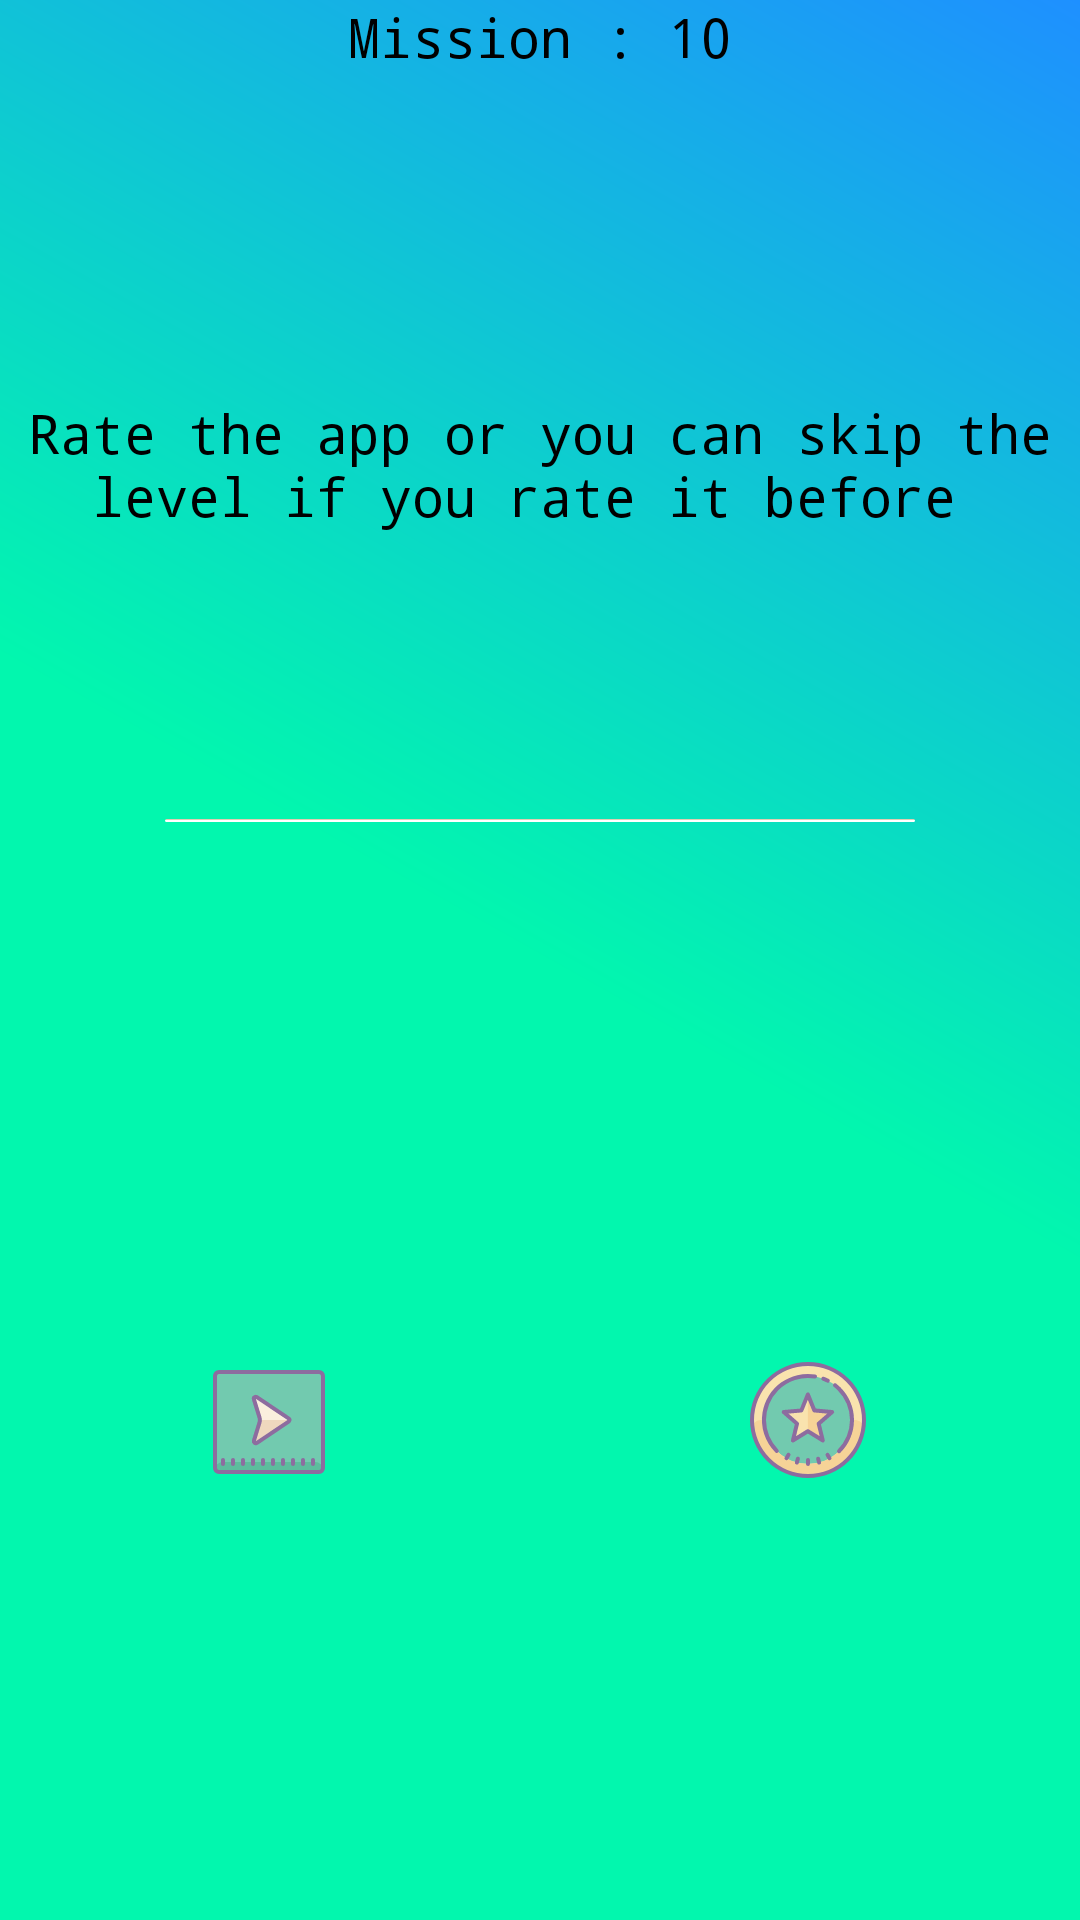

Icon bounding boxes for this 1080×1920 phone screenshot, format (x1, y1, x2, y2):
next level: (213, 1370, 325, 1474)
rate but: (750, 1362, 866, 1478)
